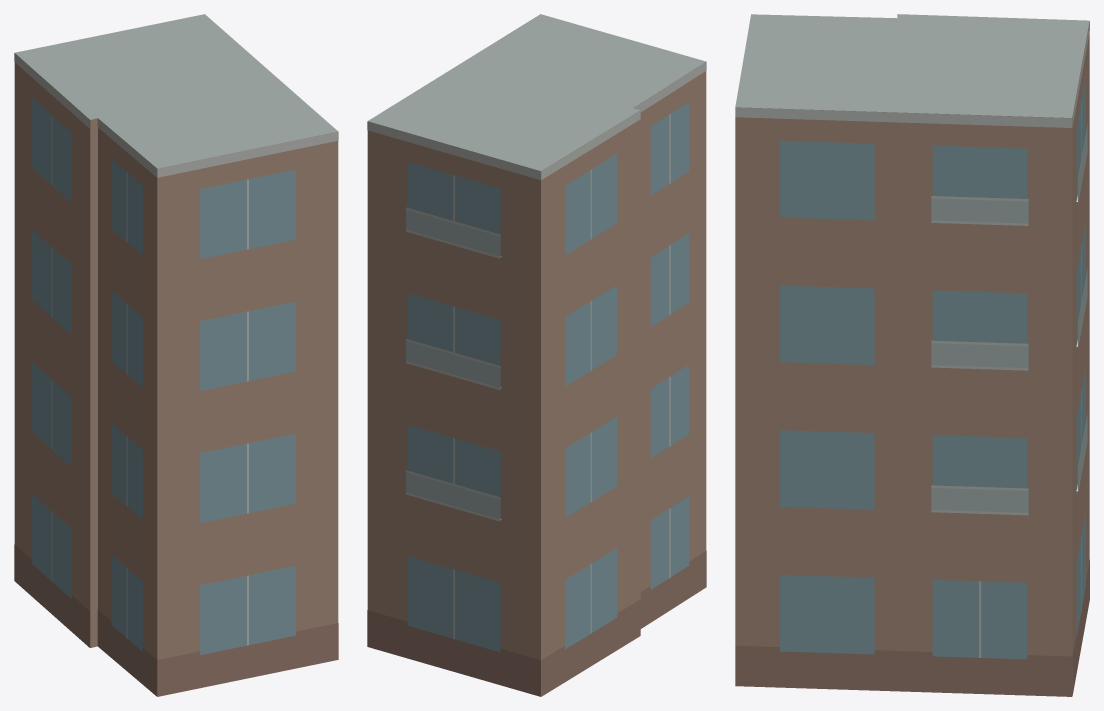
Rendered from survey-upis-33027942.glb.
The picture shows the model from 3 angles, left to right: view 1: azimuth 30°, elevation 25°; view 2: azimuth 150°, elevation 25°; view 3: azimuth 270°, elevation 25°; orthographic projection. The views are drawn at different scales.
Parts seen in each view (by area): view 1: survey-upis-33027942.tmp; view 2: survey-upis-33027942.tmp; view 3: survey-upis-33027942.tmp.
Boxes of the visible parts, x1,y1,x2,y2 form: survey-upis-33027942.tmp: (14,14,338,696); survey-upis-33027942.tmp: (367,14,706,696); survey-upis-33027942.tmp: (735,14,1089,696).
Bounding box in the file's own units: 5.44 × 14.1 × 7.84.
